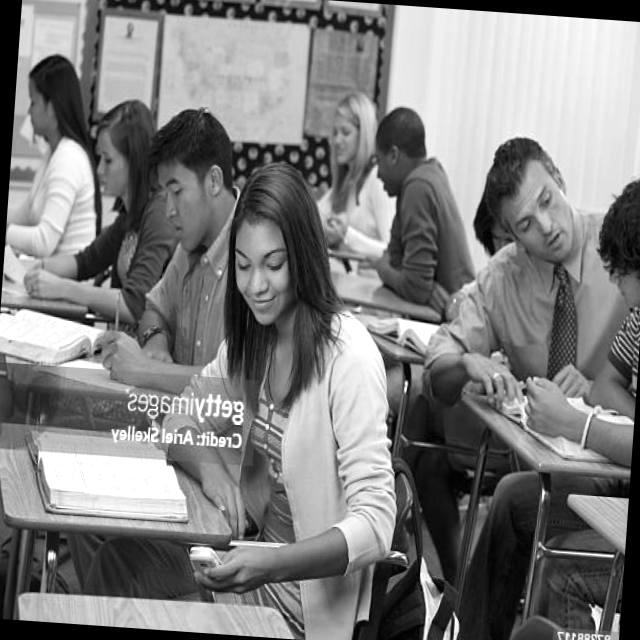phone: (187, 544, 224, 574)
